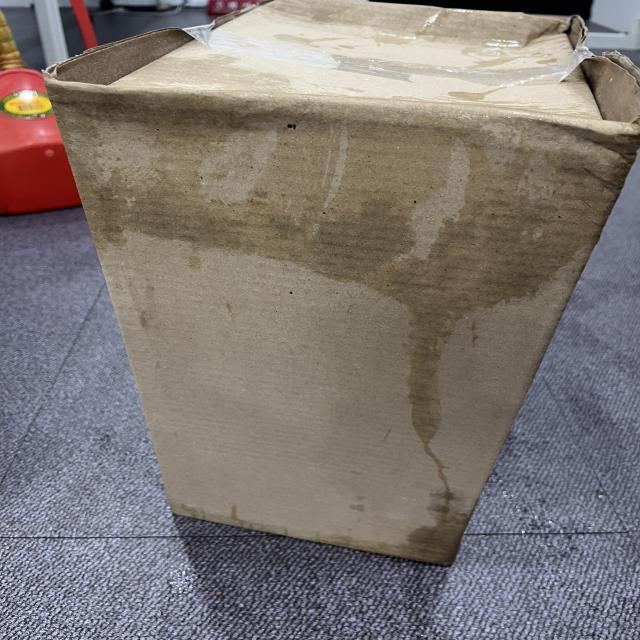wet: (92, 53, 616, 307)
